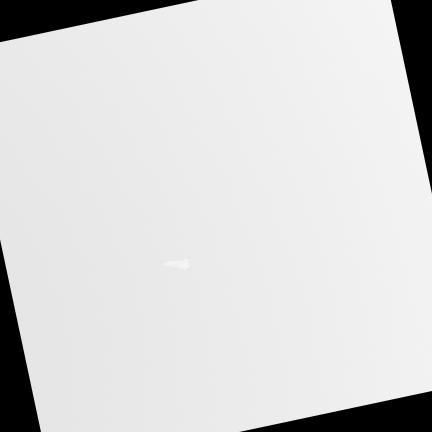Shahed: (162, 258, 190, 270)
